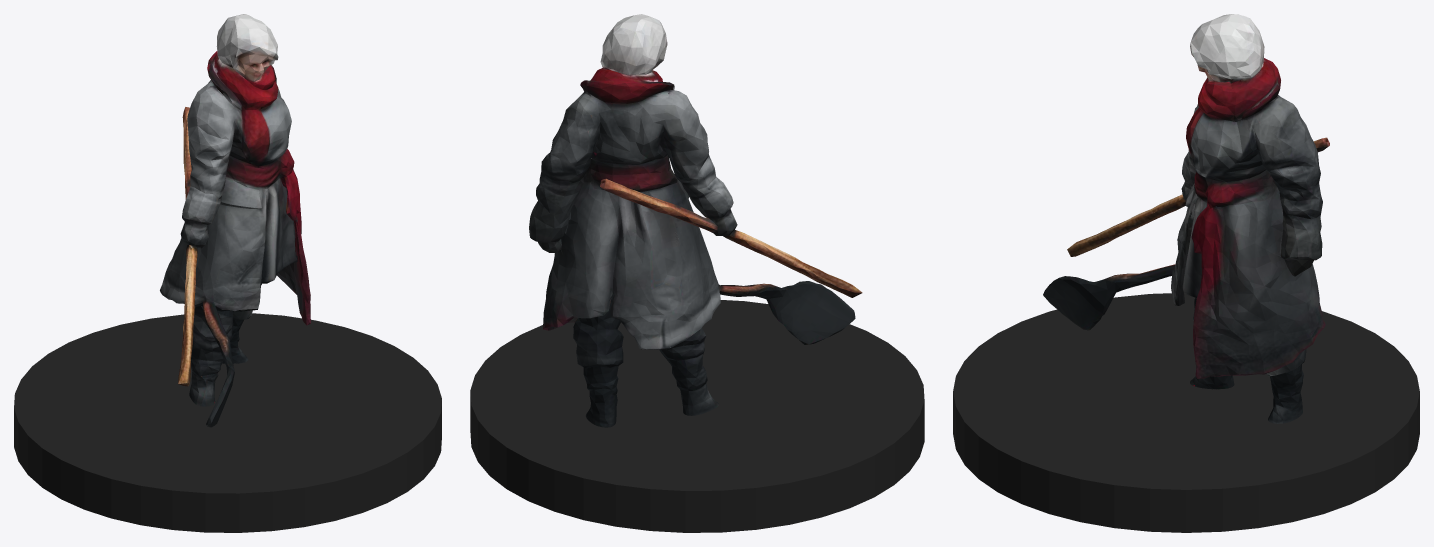
File: loretta-clay.glb
3 renders of one model, left to right at view 1: azimuth 30°, elevation 25°; view 2: azimuth 150°, elevation 25°; view 3: azimuth 270°, elevation 25°, orthographic. The views are drawn at different scales.
Parts seen in each view (by area): view 1: base, figure; view 2: base, figure; view 3: base, figure.
Boxes of the visible parts, bbox=[...] form: base: bbox=[14, 313, 441, 532]; figure: bbox=[160, 14, 310, 427]; base: bbox=[470, 300, 924, 532]; figure: bbox=[529, 14, 862, 427]; base: bbox=[953, 293, 1419, 532]; figure: bbox=[1043, 14, 1329, 423].
Size of the model in its own units: 1.18 by 1.22 by 1.18.
2 materials, 1 textured.
